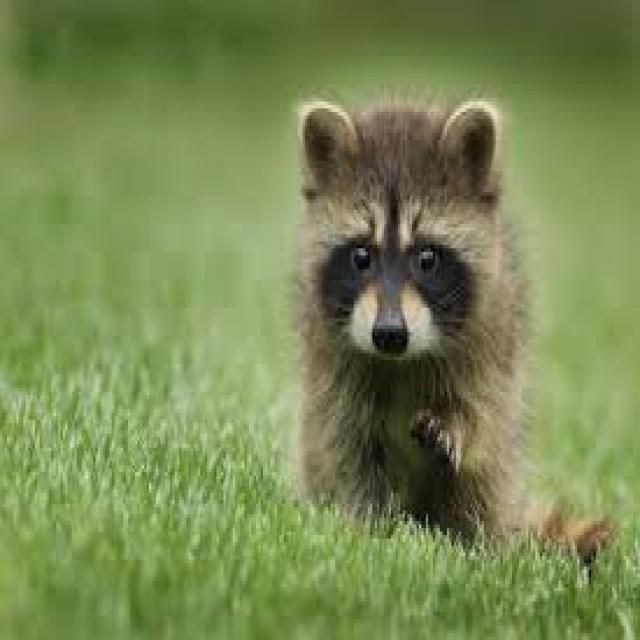Raccoon: (292, 88, 594, 566)
